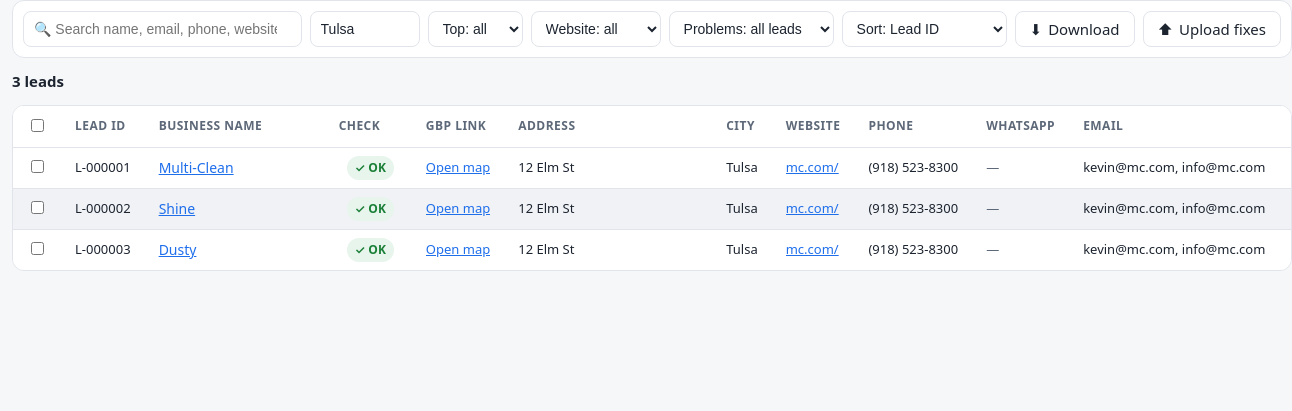
Test: in a city an Admin ticks leads and marks them Top; sorting by rating
Click the checkbox named "Choose Multi-Clean" at (38, 166), box top-left (31, 160), bottom-right (44, 173)
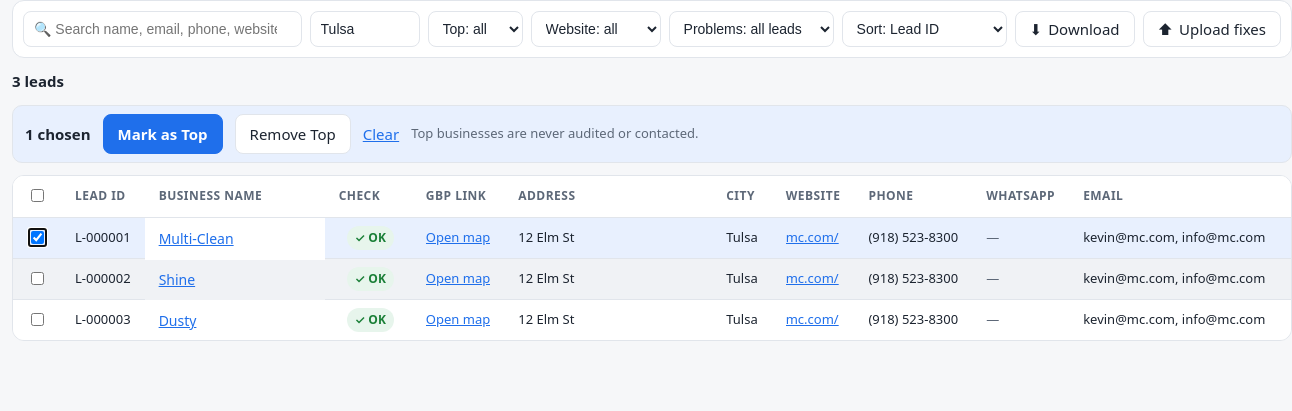
Click the checkbox named "Choose Shine" at (38, 278), box top-left (31, 272), bottom-right (44, 284)
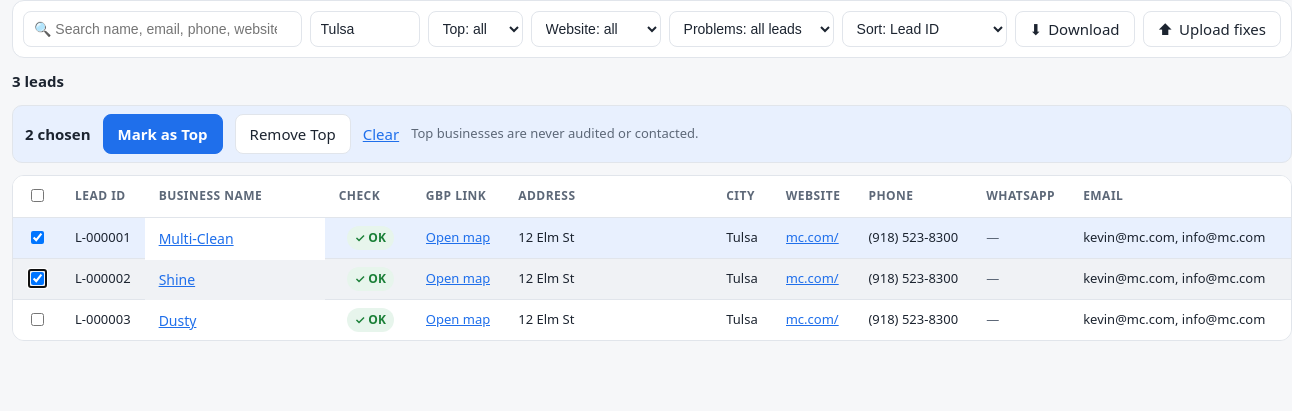
Result: the element named "Chosen leads" shows "2 chosen" at top-left (12, 104), bottom-right (1291, 163)
Click the button "Mark as Top" at (162, 134), box top-left (102, 114), bottom-right (222, 154)
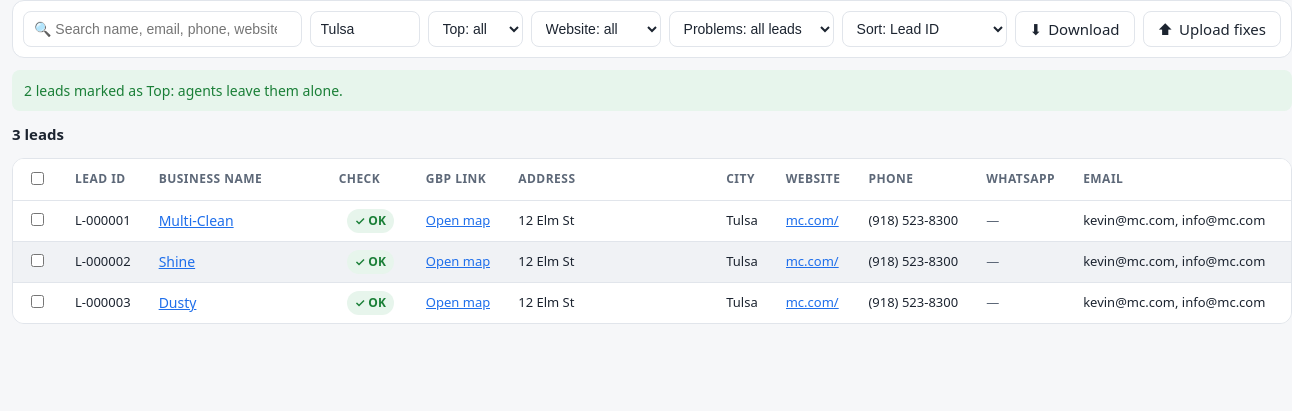
Result: the text "2 leads marked as Top: agents leave them alone." is shown at top-left (12, 70), bottom-right (1291, 111)
// The whole page at once.
Click the checkbox named "Choose every lead on this page" at (38, 178), box top-left (31, 172), bottom-right (44, 184)
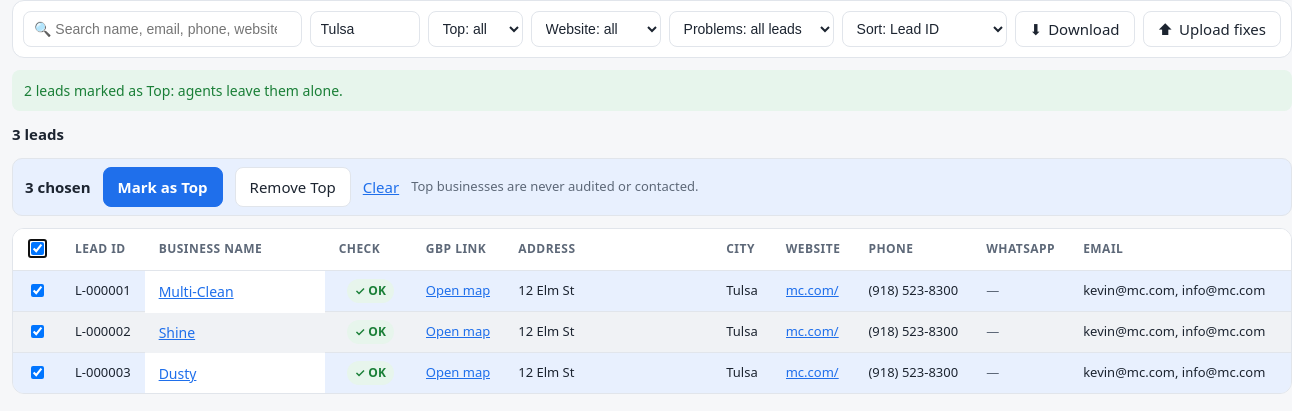
Result: the element named "Chosen leads" shows "3 chosen" at top-left (12, 158), bottom-right (1291, 216)
Select "Sort: Rating (highest first)" in the 4th dropdown named "Sort by" at (924, 29), box top-left (842, 11), bottom-right (1007, 47)
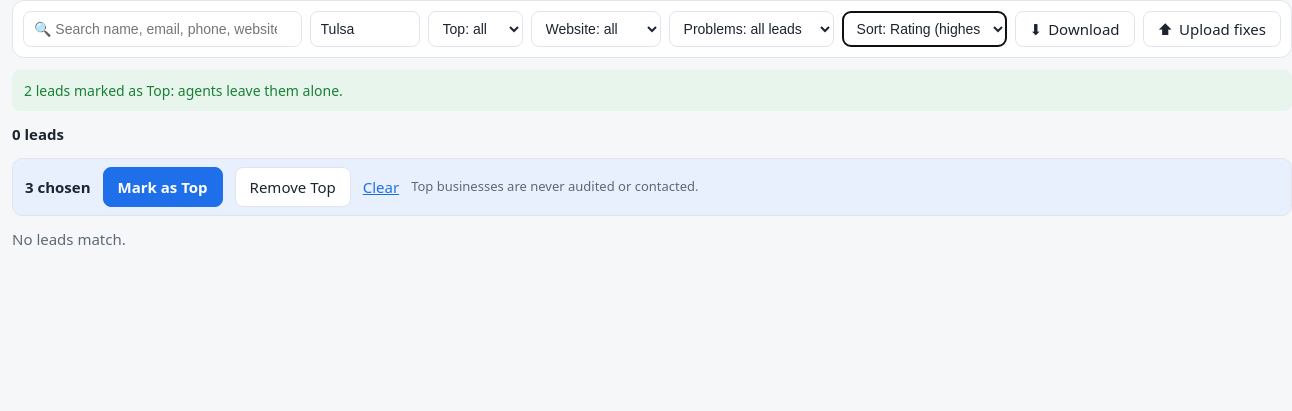
Result: the text "No leads match." is shown at top-left (12, 229), bottom-right (126, 249)
